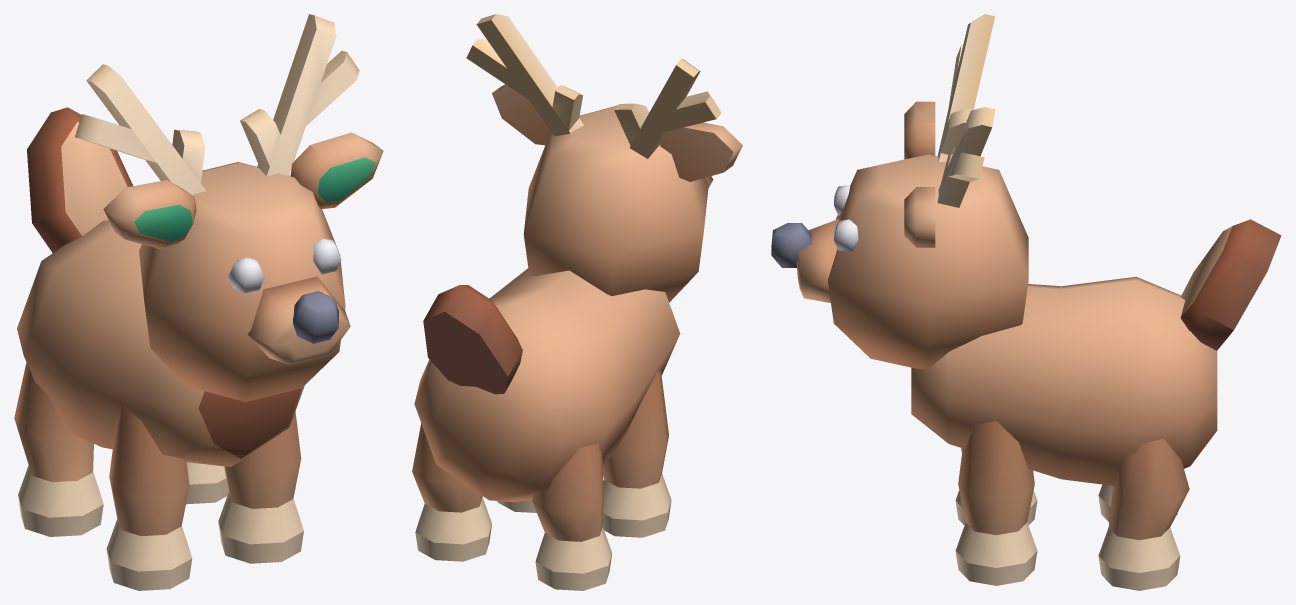
The model's file is reindeer.glb.
3 renders of one model, left to right at view 1: azimuth 30°, elevation 25°; view 2: azimuth 150°, elevation 25°; view 3: azimuth 270°, elevation 25°, orthographic. The views are drawn at different scales.
Parts seen in each view (by area): view 1: reindeer; view 2: reindeer; view 3: reindeer.
Boxes of the visible parts, <box> form: reindeer: <box>14,14,383,590</box>; reindeer: <box>412,14,742,590</box>; reindeer: <box>771,14,1281,590</box>.
Bounding box in the file's own units: 0.6252 × 1.12 × 1.07.
Materials: 1 (1 with a texture image).
